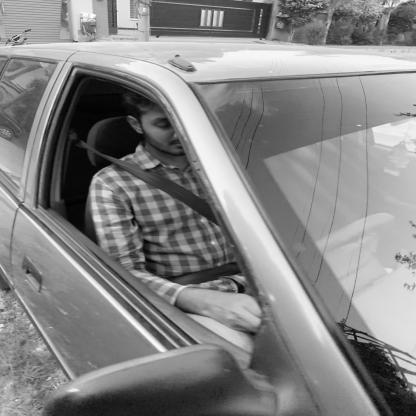seatbelt: (109, 95, 208, 272)
